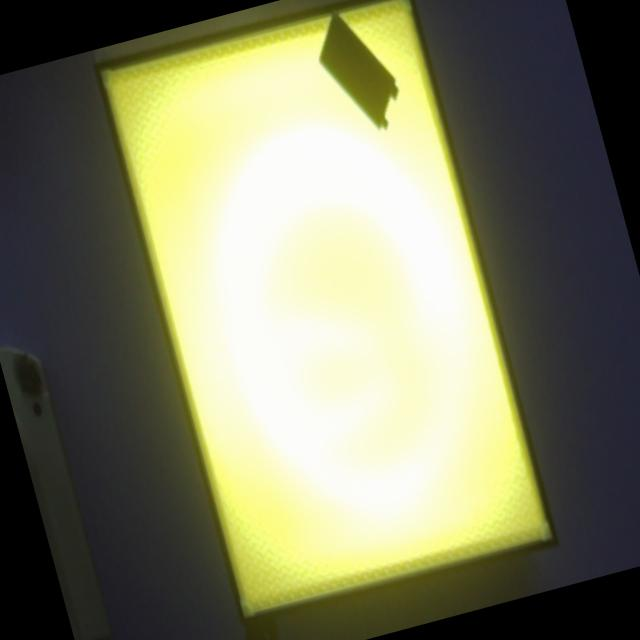bateria: (317, 11, 396, 130)
mesa: (90, 0, 560, 629)
